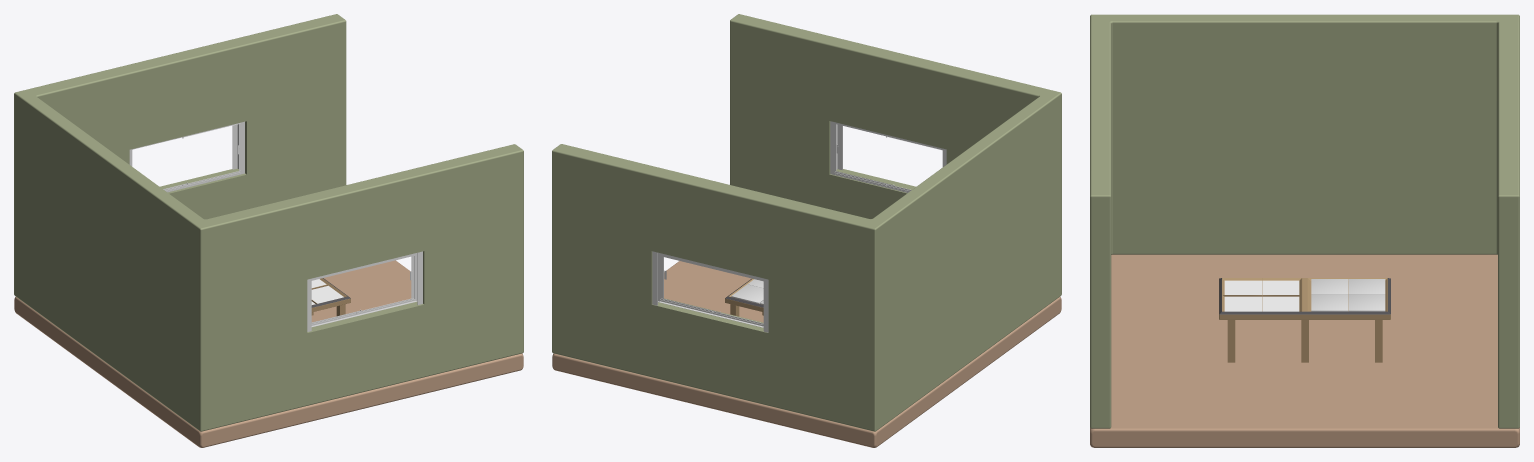
The model's file is Level03.glb.
3 views of the same model, side by side, from view 1: azimuth 30°, elevation 25°; view 2: azimuth 150°, elevation 25°; view 3: azimuth 270°, elevation 25° (orthographic). The views are drawn at different scales.
Parts seen in each view (by area): view 1: Walls, Ground, TableTop, WindowFrame, WindowFrame.001, Blind_rails.001; view 2: Walls, Ground, WindowFrame.001, WindowFrame, Blind_rails; view 3: Walls, Ground, TableTop, TableLegs.001, PuzzlePiece.001, PuzzlePiece.004, PuzzlePiece.002, PuzzlePiece.003.
Boxes of the visible parts, box(x1,y1,x2,y2) form: Walls: box(14, 14, 523, 431); Ground: box(14, 260, 523, 447); TableTop: box(311, 278, 350, 312); WindowFrame: box(129, 121, 244, 192); WindowFrame.001: box(311, 255, 417, 327); Blind_rails.001: box(307, 251, 422, 331); Walls: box(552, 14, 1061, 431); Ground: box(552, 261, 1061, 447); WindowFrame.001: box(830, 121, 946, 192); WindowFrame: box(658, 255, 763, 327); Blind_rails: box(652, 251, 768, 332); Walls: box(1090, 14, 1519, 428); Ground: box(1090, 254, 1519, 447); TableTop: box(1219, 278, 1390, 319); TableLegs.001: box(1227, 320, 1382, 362); PuzzlePiece.001: box(1311, 295, 1348, 311); PuzzlePiece.004: box(1348, 295, 1385, 311); PuzzlePiece.002: box(1311, 279, 1348, 294); PuzzlePiece.003: box(1348, 279, 1385, 294).
Size of the model in its own units: 5 by 3.25 by 5.
